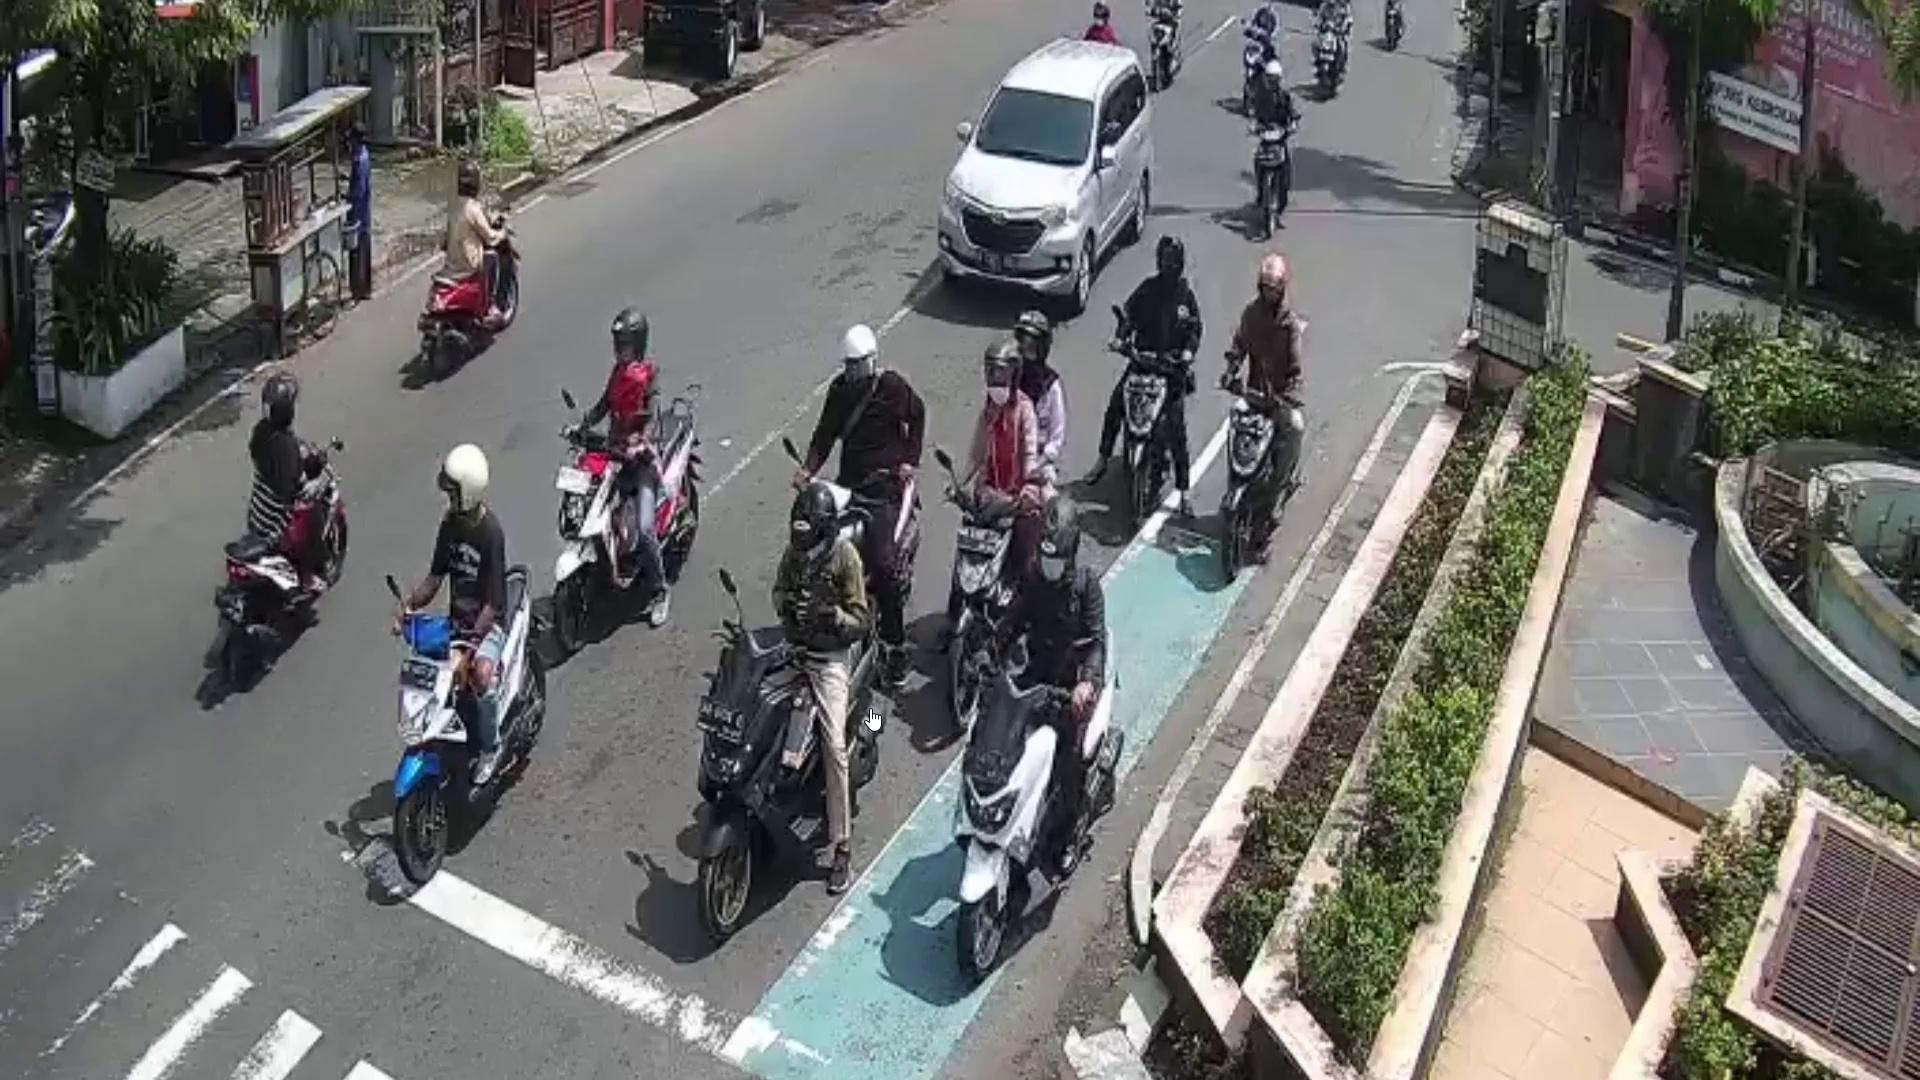car: (938, 37, 1155, 310)
motorbike: (699, 607, 885, 943), (957, 670, 1125, 980), (389, 560, 546, 890), (545, 405, 692, 650), (218, 442, 351, 702), (1222, 381, 1307, 580), (423, 212, 521, 380), (949, 475, 1018, 700), (1116, 345, 1172, 517), (1249, 120, 1292, 232)
